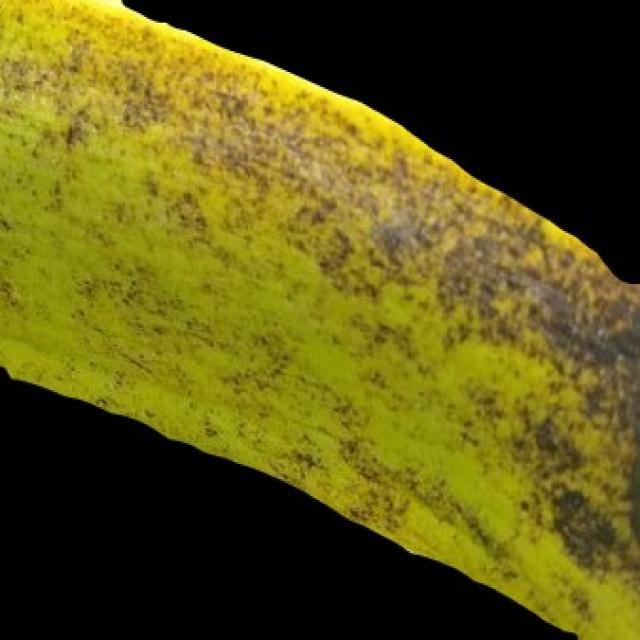mite: (117, 0, 638, 286), (551, 485, 617, 551), (530, 413, 583, 475), (557, 487, 587, 513), (0, 360, 11, 390), (201, 424, 218, 437), (517, 496, 530, 513)
